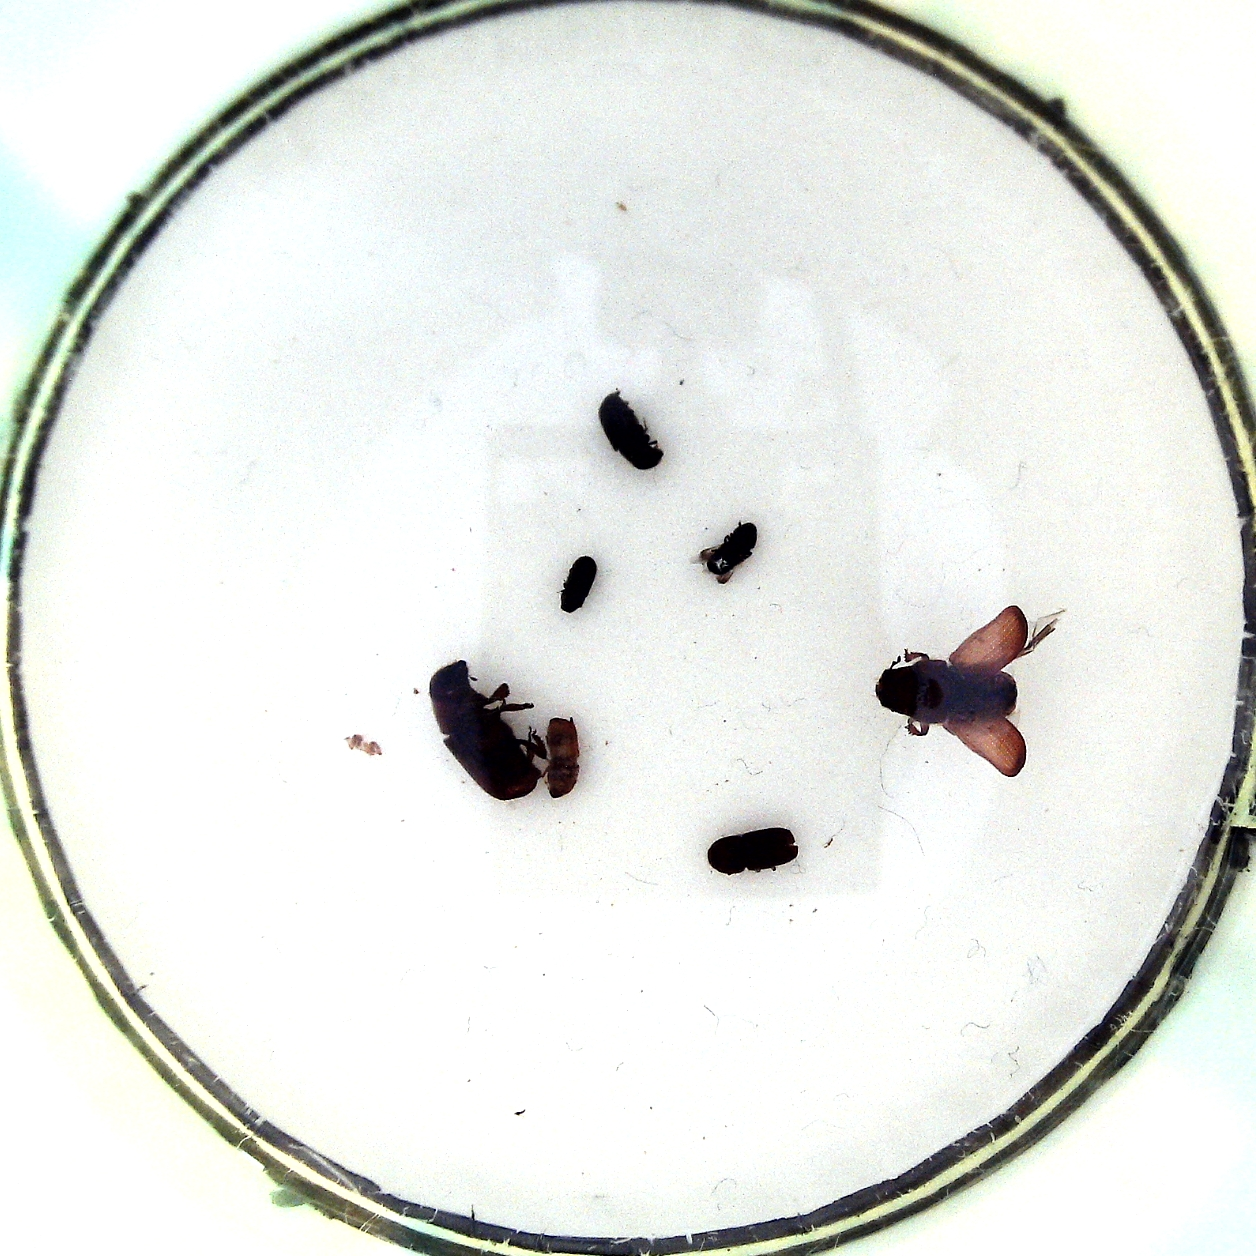Leconte: (876, 599, 1069, 781), (415, 653, 546, 804)
Linnaeus: (704, 822, 802, 884)
acuminatus: (545, 709, 581, 802)
armandi: (597, 384, 669, 484)
coleoptera: (687, 518, 769, 589), (550, 554, 605, 615)
